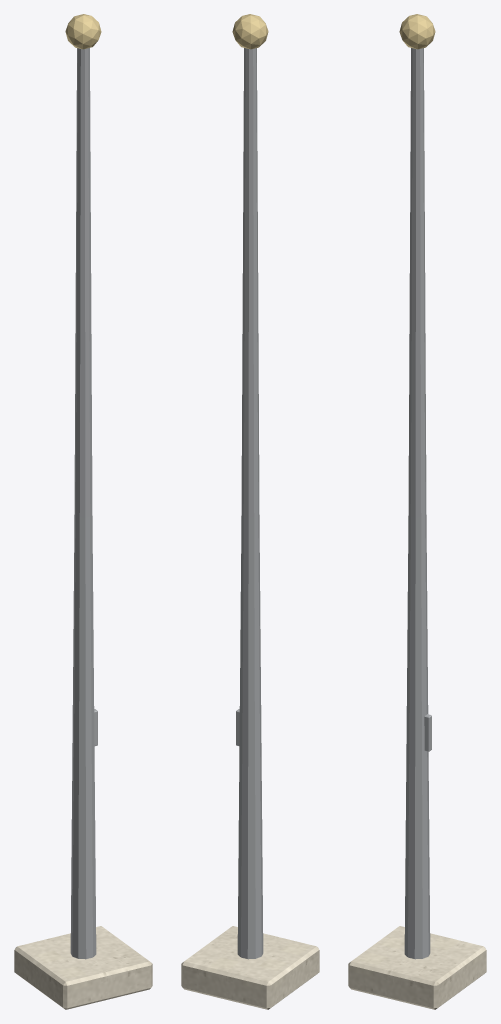
Rendered from flagpole.glb.
3 views of the same model, side by side, from view 1: azimuth 30°, elevation 25°; view 2: azimuth 150°, elevation 25°; view 3: azimuth 330°, elevation 25° (orthographic).
Visible parts, largest first — view 1: flagpole_steel, flagpole_trim, flagpole_brass; view 2: flagpole_steel, flagpole_trim, flagpole_brass; view 3: flagpole_steel, flagpole_trim, flagpole_brass.
Part boxes in pixels (x1=…): flagpole_steel: x1=70, y1=48, x2=97, y2=959; flagpole_trim: x1=14, y1=926, x2=152, y2=1009; flagpole_brass: x1=65, y1=14, x2=101, y2=49; flagpole_steel: x1=236, y1=48, x2=263, y2=959; flagpole_trim: x1=181, y1=926, x2=319, y2=1009; flagpole_brass: x1=232, y1=14, x2=268, y2=49; flagpole_steel: x1=404, y1=48, x2=431, y2=959; flagpole_trim: x1=348, y1=926, x2=486, y2=1009; flagpole_brass: x1=399, y1=14, x2=435, y2=49.
Size of the model in its own units: 0.4 by 4.13 by 0.4.
Materials: 3 (1 with a texture image).
